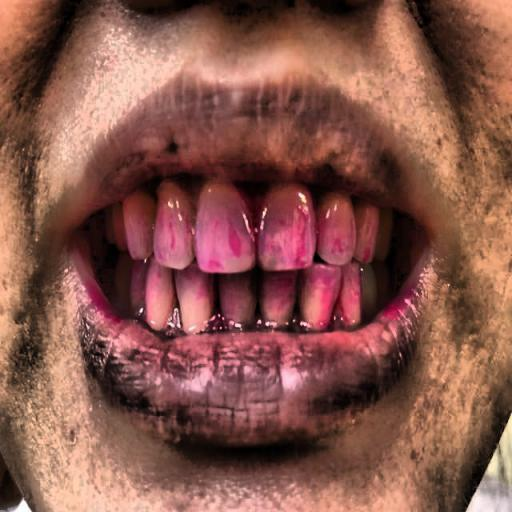Plaque: (111, 158, 391, 328)
